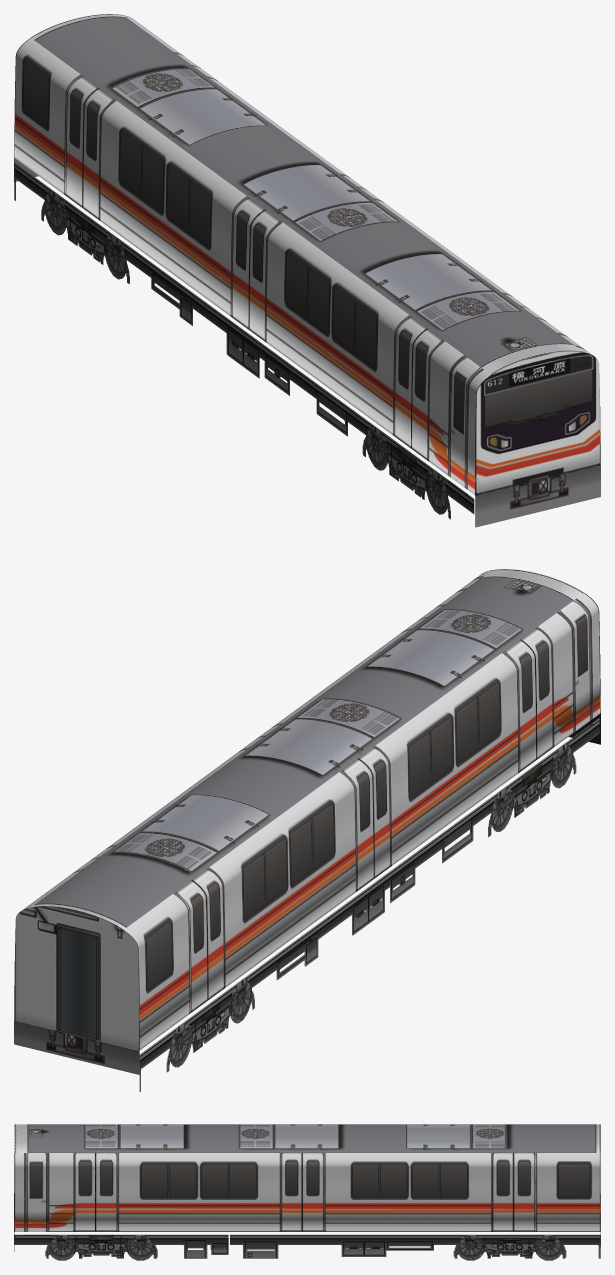
The model's file is car1.glb.
3 renders of one model, top to bottom at view 1: azimuth 30°, elevation 25°; view 2: azimuth 150°, elevation 25°; view 3: azimuth 270°, elevation 25°, orthographic. The views are drawn at different scales.
Parts seen in each view (by area): view 1: iyotetu610-car1; view 2: iyotetu610-car1; view 3: iyotetu610-car1.
Part boxes in pixels (x1,y1,x2,y2): iyotetu610-car1: (14,14,600,527); iyotetu610-car1: (14,569,600,1091); iyotetu610-car1: (14,1124,600,1260).
Bounding box in the file's own units: 2.78 × 3.6 × 17.76.
9 materials, 8 textured.
